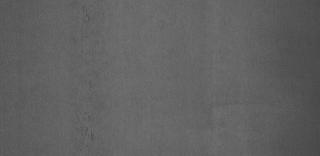silk spot: (70, 7, 110, 140)
